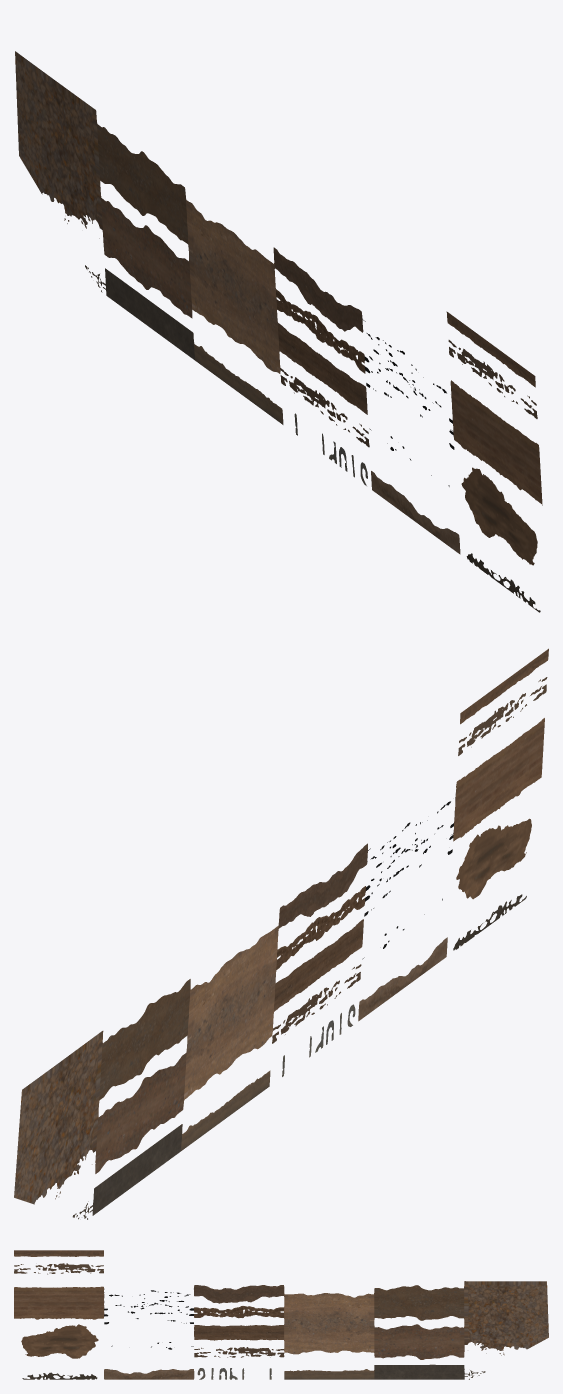
The model's file is SM_Terrain_Road_Hills_Decal_ConcreteBroken_01_06_ATLAS.fbx.
The picture shows the model from 3 angles, top to bottom: view 1: azimuth 30°, elevation 25°; view 2: azimuth 150°, elevation 25°; view 3: azimuth 270°, elevation 25°; orthographic projection. The views are drawn at different scales.
Parts seen in each view (by area): view 1: SM_Terrain_Road_Hills_Decal_ConcreteBroken_01_06_ATLAS_LOD0; view 2: SM_Terrain_Road_Hills_Decal_ConcreteBroken_01_06_ATLAS_LOD0; view 3: SM_Terrain_Road_Hills_Decal_ConcreteBroken_01_06_ATLAS_LOD0.
Part boxes in pixels (x1,y1,x2,y2): SM_Terrain_Road_Hills_Decal_ConcreteBroken_01_06_ATLAS_LOD0: (15,51,542,612); SM_Terrain_Road_Hills_Decal_ConcreteBroken_01_06_ATLAS_LOD0: (14,648,548,1219); SM_Terrain_Road_Hills_Decal_ConcreteBroken_01_06_ATLAS_LOD0: (14,1250,548,1379).
Size of the model in its own units: 9.16 by 604 by 157.
